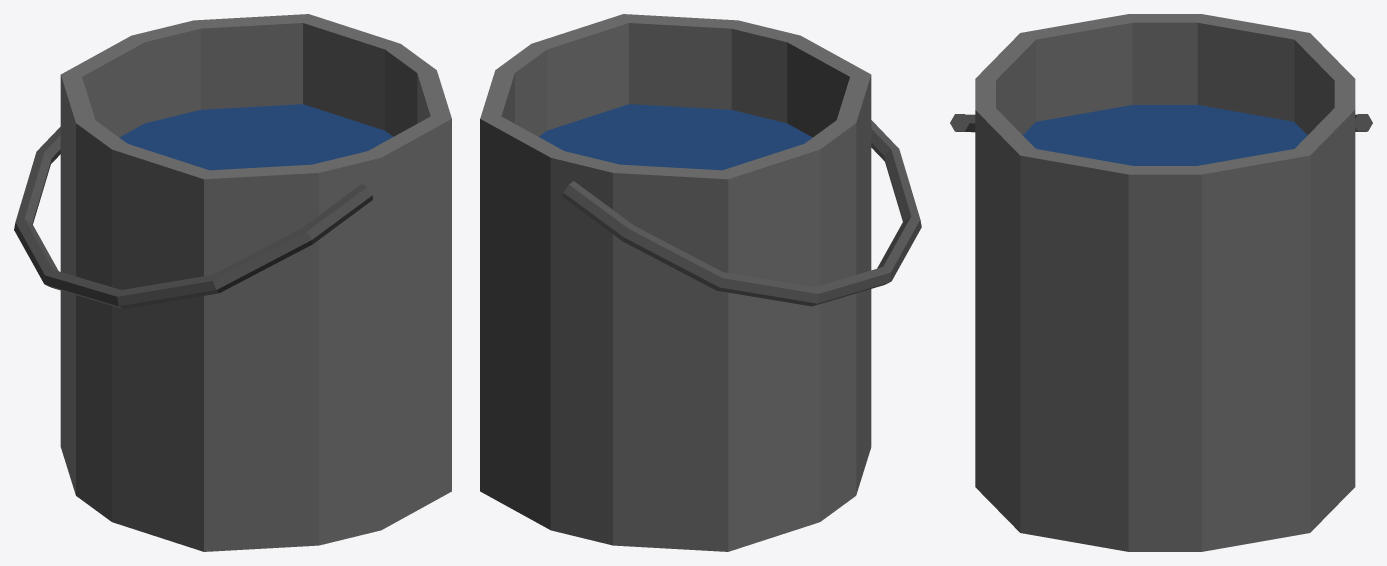
3 views of the same model, side by side, from view 1: azimuth 30°, elevation 25°; view 2: azimuth 150°, elevation 25°; view 3: azimuth 270°, elevation 25° (orthographic).
Parts seen in each view (by area): view 1: G-26, Torus.001; view 2: G-26, Torus.001; view 3: G-26, Torus.001.
Part boxes in pixels (x1,y1,x2,y2): G-26: (60,14,451,551); Torus.001: (14,127,372,308); G-26: (480,14,871,551); Torus.001: (562,120,921,306); G-26: (975,14,1355,551); Torus.001: (950,114,1372,132).
Size of the model in its own units: 61.9 by 58.57 by 59.48.
